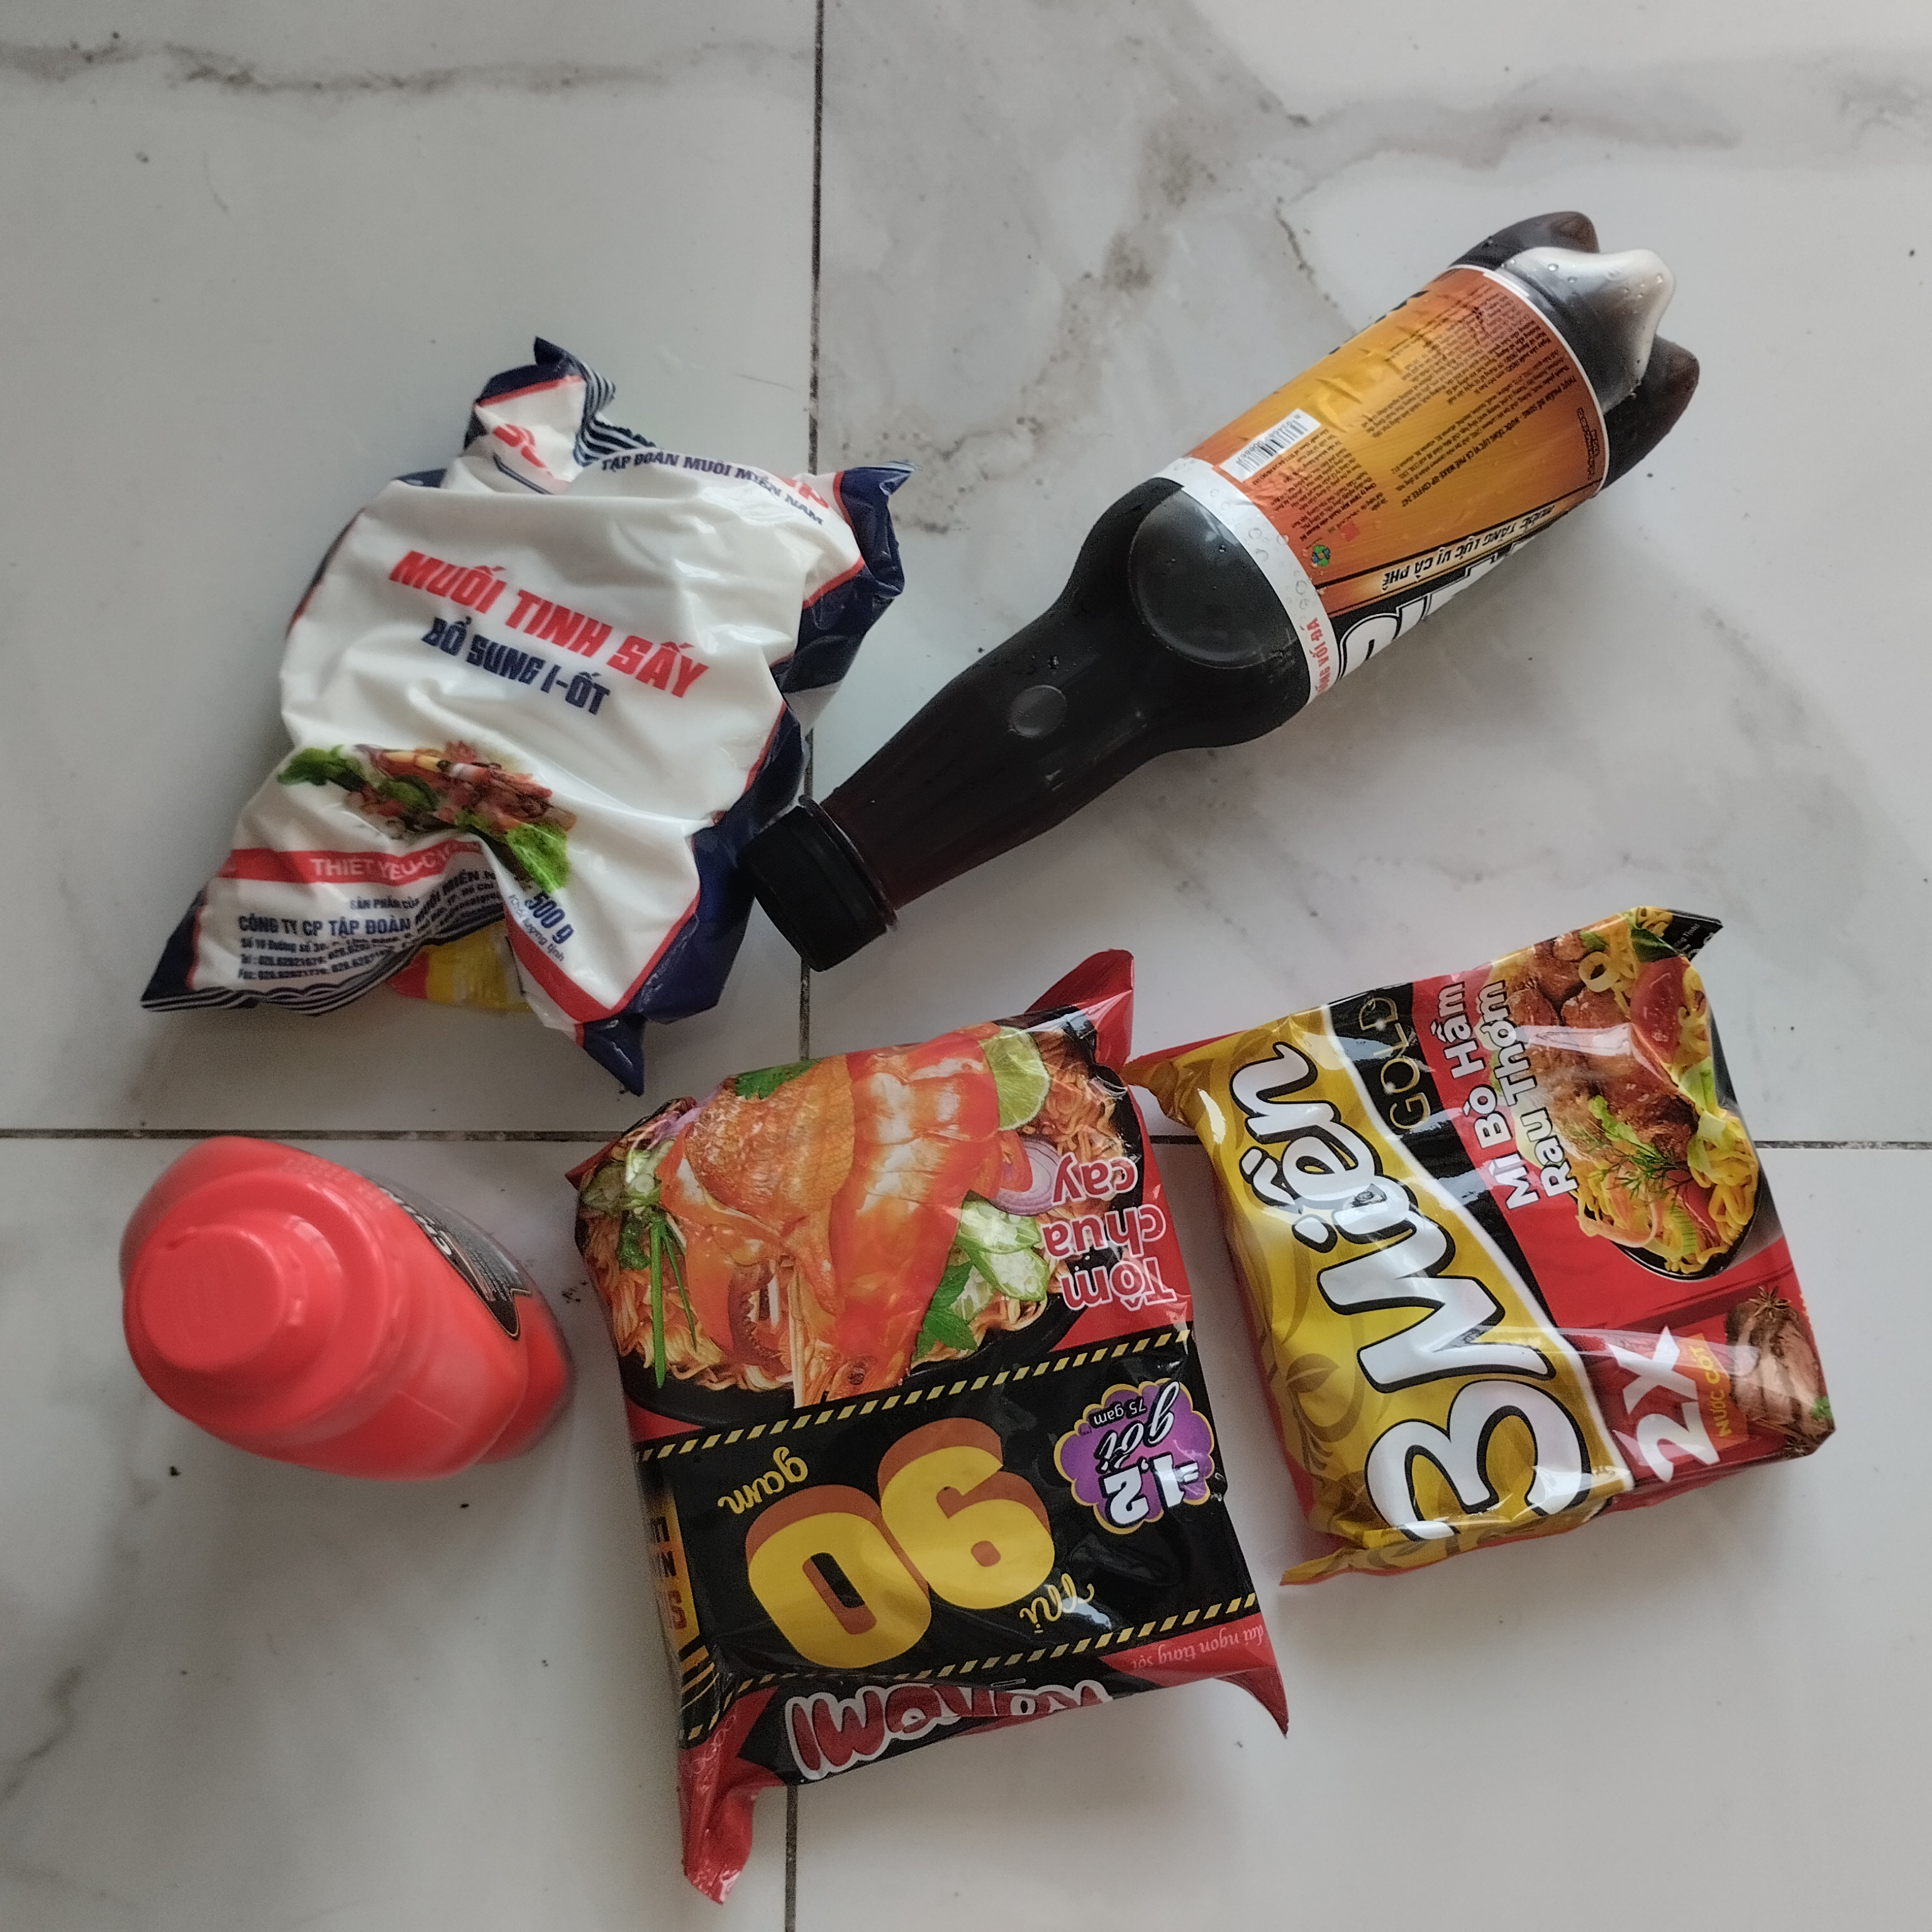247: (745, 211, 1698, 971)
3mien: (1134, 901, 1844, 1589)
Chinsu: (103, 1113, 582, 1499)
Kokomi: (540, 941, 1290, 1904)
Salt: (131, 318, 909, 1079)
